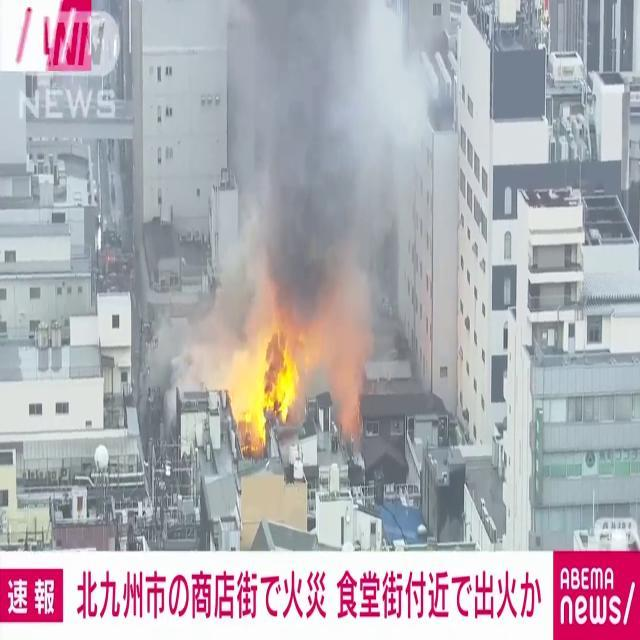Fire: (224, 306, 302, 448)
Smoke: (220, 0, 432, 332)
